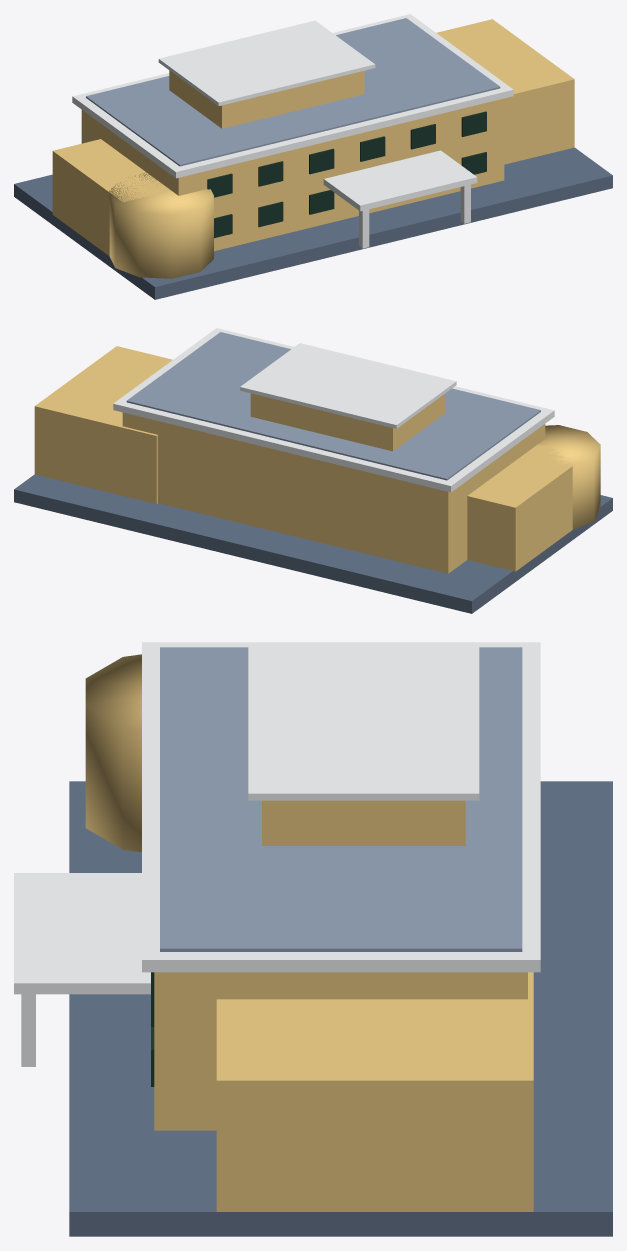
The model's file is lm_07_09_bao_dai_palace_base.glb.
3 views of the same model, one above another, from view 1: azimuth 30°, elevation 25°; view 2: azimuth 150°, elevation 25°; view 3: azimuth 270°, elevation 25° (orthographic). The views are drawn at different scales.
Visible parts, largest first — view 1: roof_terrace_deck, podium_base, main_block, belvedere_cap, east_wing, curved_bay_salon, west_sunroom, roof_parapet_main, porte_cochere_canopy, belvedere_penthouse, win_row2_11, win_row1_-9 (+9 smaller); view 2: main_block, podium_base, roof_terrace_deck, east_wing, belvedere_cap, west_sunroom, roof_parapet_main, belvedere_penthouse, curved_bay_salon; view 3: podium_base, east_wing, roof_terrace_deck, belvedere_cap, roof_parapet_main, main_block, porte_cochere_canopy, curved_bay_salon, belvedere_penthouse, porte_pillar_7.0.
Part boxes in pixels (box(x1,y1,x2,y2)): roof_terrace_deck: box(86, 18, 500, 166); podium_base: box(14, 147, 612, 299); main_block: box(81, 98, 504, 251); belvedere_cap: box(158, 20, 375, 106); east_wing: box(436, 19, 574, 164); curved_bay_salon: box(109, 172, 213, 278); west_sunroom: box(52, 139, 170, 255); roof_parapet_main: box(72, 14, 513, 178); porte_cochere_canopy: box(323, 150, 477, 211); belvedere_penthouse: box(169, 70, 364, 128); win_row2_11: box(461, 111, 486, 136); win_row1_-9: box(258, 201, 283, 227); main_block: box(122, 412, 545, 573); podium_base: box(14, 474, 612, 613); roof_terrace_deck: box(126, 332, 540, 480); east_wing: box(34, 346, 172, 503); belvedere_cap: box(240, 343, 456, 428); west_sunroom: box(467, 444, 576, 571); roof_parapet_main: box(113, 328, 554, 492); belvedere_penthouse: box(250, 393, 445, 451); curved_bay_salon: box(520, 425, 600, 529); podium_base: box(69, 781, 612, 1236); east_wing: box(216, 972, 533, 1211); roof_terrace_deck: box(160, 647, 522, 951); belvedere_cap: box(248, 646, 479, 800); roof_parapet_main: box(142, 642, 540, 972); main_block: box(154, 972, 527, 1130); porte_cochere_canopy: box(14, 873, 150, 994); curved_bay_salon: box(85, 654, 141, 852); belvedere_penthouse: box(262, 800, 465, 845); porte_pillar_7.0: box(21, 994, 35, 1066).
Bounding box in the file's own units: 46 × 12.82 × 26.45.
